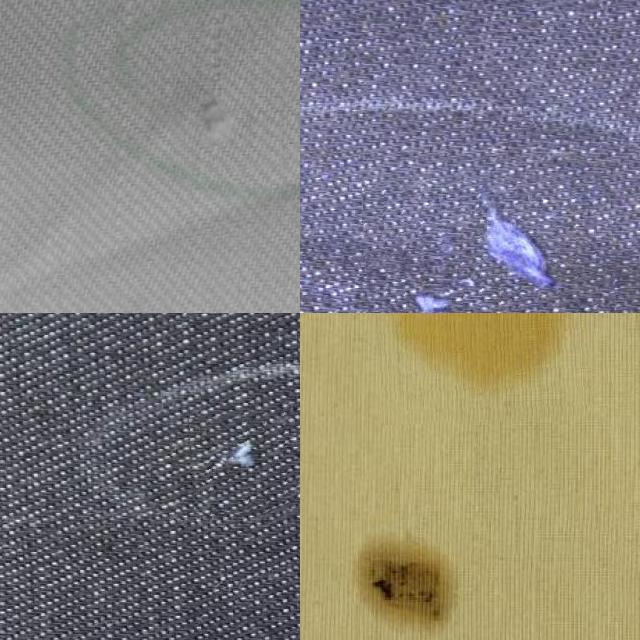Thread_other: (318, 488, 476, 640), (373, 313, 591, 421)
stains: (364, 175, 617, 313), (172, 24, 288, 170), (190, 411, 300, 513)
